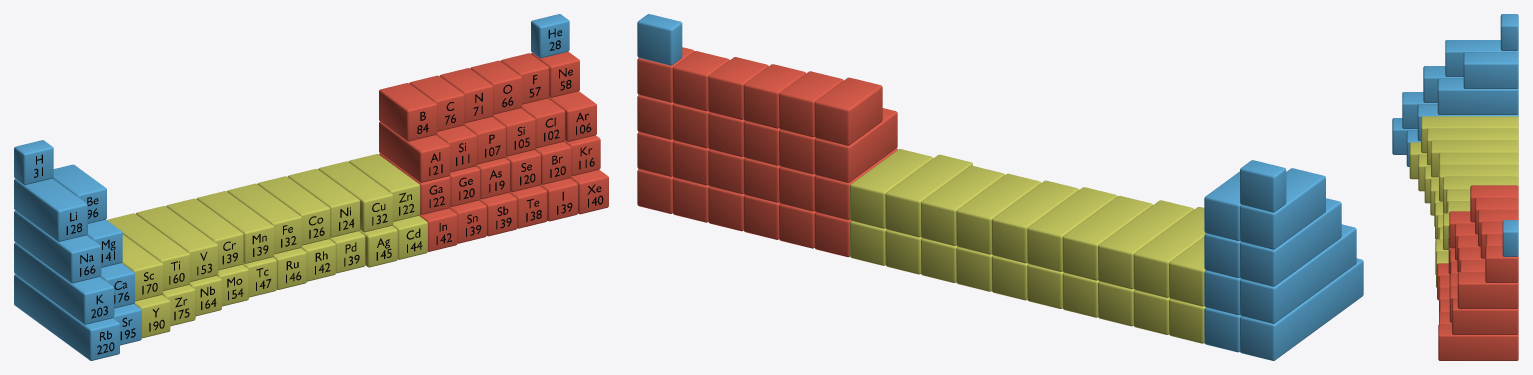
File: s104_7.01_graf_atom_polomery.glb
3 renders of one model, left to right at view 1: azimuth 30°, elevation 25°; view 2: azimuth 150°, elevation 25°; view 3: azimuth 270°, elevation 25°, orthographic. The views are drawn at different scales.
Visible parts, largest first — view 1: P019.004, P037.004, P003.004, P011.004, P013.004, P005.004, P022.004, P023.004, P029.004, P025.004, P024.004, P026.004 (+42 smaller); view 2: P037.004, P019.004, P003.004, P011.004, P005.004, P023.004, P024.004, P025.004, P013.004, P026.004, P029.004, P022.004 (+42 smaller); view 3: P012.004, P054.004, P004.004, P018.004, P036.004, P021.004, P023.004, P022.004, P003.004, P025.004, P010.004, P024.004 (+34 smaller).
Boxes of the visible parts, left/top/right/bottom form: P019.004: left=14, top=242, right=114, bottom=324; P037.004: left=14, top=274, right=119, bottom=360; P003.004: left=14, top=178, right=87, bottom=241; P011.004: left=14, top=210, right=101, bottom=283; P013.004: left=379, top=121, right=450, bottom=182; P005.004: left=379, top=83, right=437, bottom=141; P022.004: left=107, top=213, right=190, bottom=290; P023.004: left=136, top=206, right=218, bottom=281; P029.004: left=318, top=161, right=393, bottom=232; P025.004: left=197, top=191, right=273, bottom=263; P024.004: left=166, top=198, right=243, bottom=270; P026.004: left=227, top=183, right=301, bottom=254; P037.004: left=1240, top=258, right=1363, bottom=360; P019.004: left=1240, top=224, right=1356, bottom=323; P003.004: left=1240, top=168, right=1325, bottom=249; P011.004: left=1240, top=198, right=1341, bottom=286; P005.004: left=814, top=77, right=882, bottom=145; P023.004: left=1098, top=200, right=1193, bottom=289; P024.004: left=1062, top=196, right=1152, bottom=280; P025.004: left=1027, top=187, right=1117, bottom=271; P013.004: left=814, top=108, right=897, bottom=182; P026.004: left=991, top=180, right=1079, bottom=263; P029.004: left=885, top=154, right=972, bottom=237; P022.004: left=1133, top=207, right=1205, bottom=297; P012.004: left=1437, top=78, right=1518, bottom=114; P054.004: left=1438, top=324, right=1518, bottom=360; P004.004: left=1463, top=52, right=1518, bottom=88; P018.004: left=1457, top=272, right=1518, bottom=308; P036.004: left=1452, top=298, right=1518, bottom=334; P021.004: left=1421, top=116, right=1518, bottom=153; P023.004: left=1431, top=140, right=1518, bottom=177; P022.004: left=1427, top=128, right=1518, bottom=165; P003.004: left=1445, top=40, right=1518, bottom=76; P025.004: left=1439, top=164, right=1518, bottom=201; P010.004: left=1485, top=246, right=1518, bottom=282; P024.004: left=1439, top=152, right=1518, bottom=165.
Bounding box in the file's own units: 0.18 × 0.05 × 0.044.
